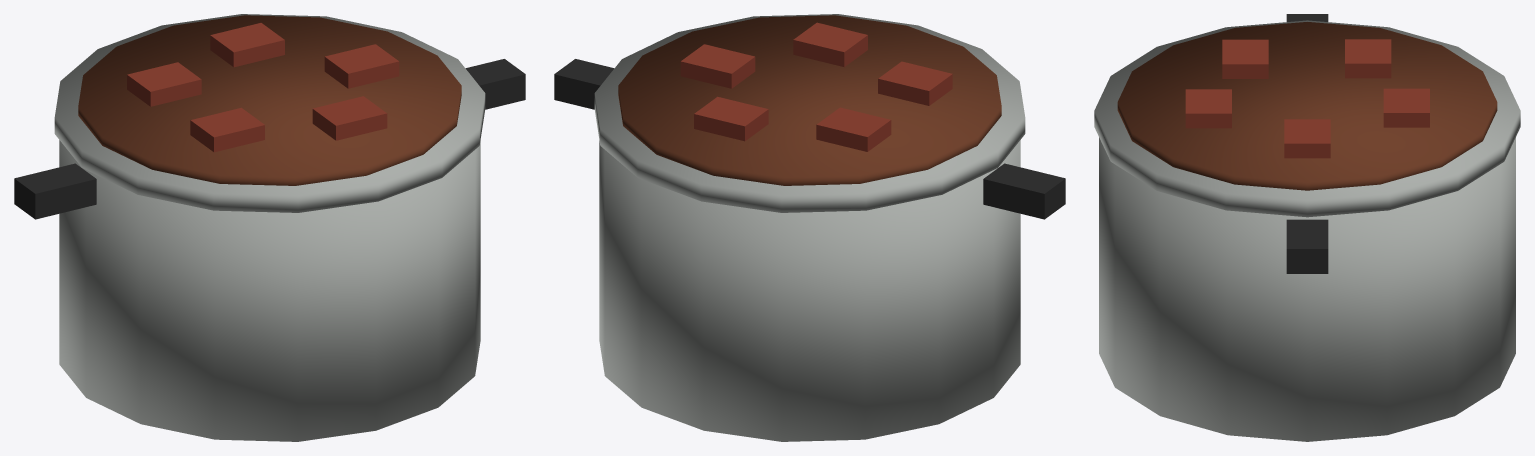
File: pot_navy.glb
3 renders of one model, left to right at view 1: azimuth 30°, elevation 25°; view 2: azimuth 150°, elevation 25°; view 3: azimuth 270°, elevation 25°, orthographic.
Parts seen in each view (by area): view 1: Item; view 2: Item; view 3: Item.
Boxes of the visible parts, x1,y1,x2,y2 form: Item: [14, 14, 525, 441]; Item: [554, 14, 1065, 441]; Item: [1094, 14, 1520, 441].
Bounding box in the file's own units: 0.24 × 0.127 × 0.184.
